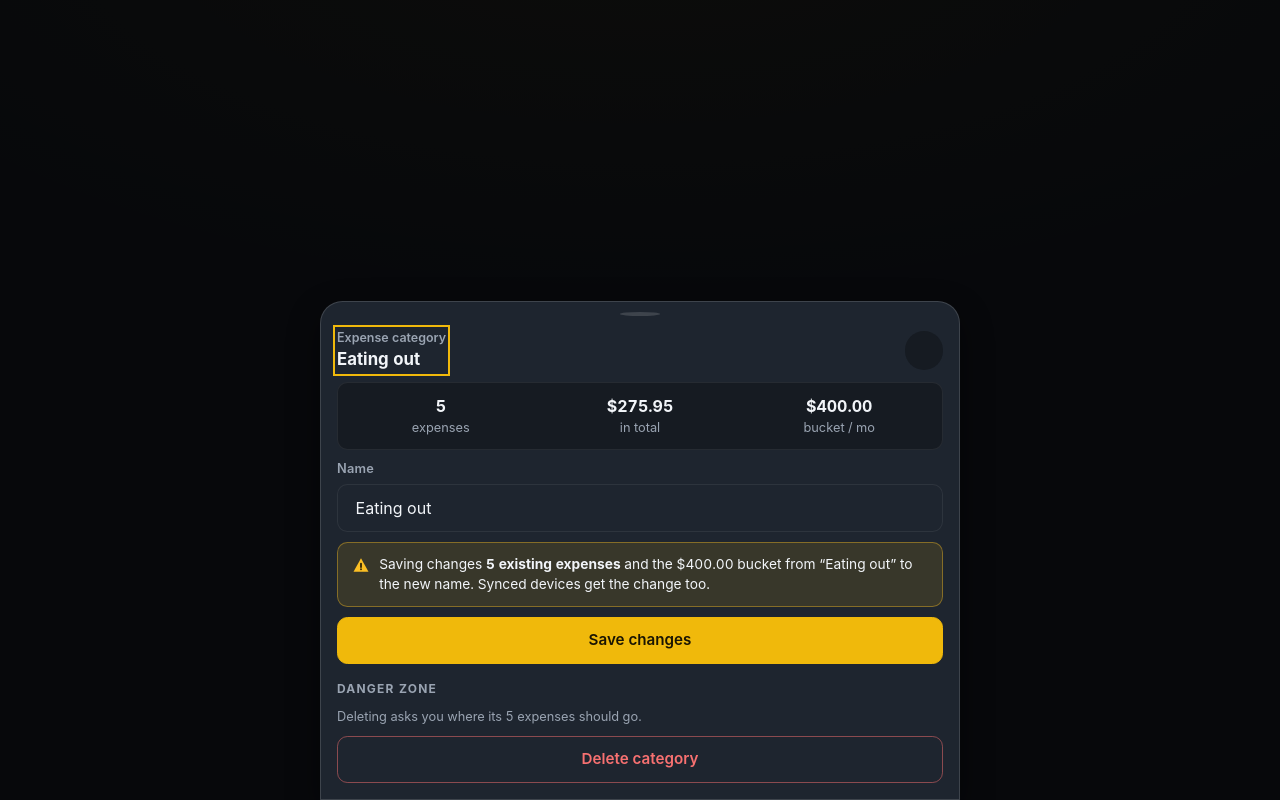
Test: CategorySheet › refuses a name another expense category has
Replace the text in the field labelled "Name" with "Food": (640, 508) [337,484,943,532]
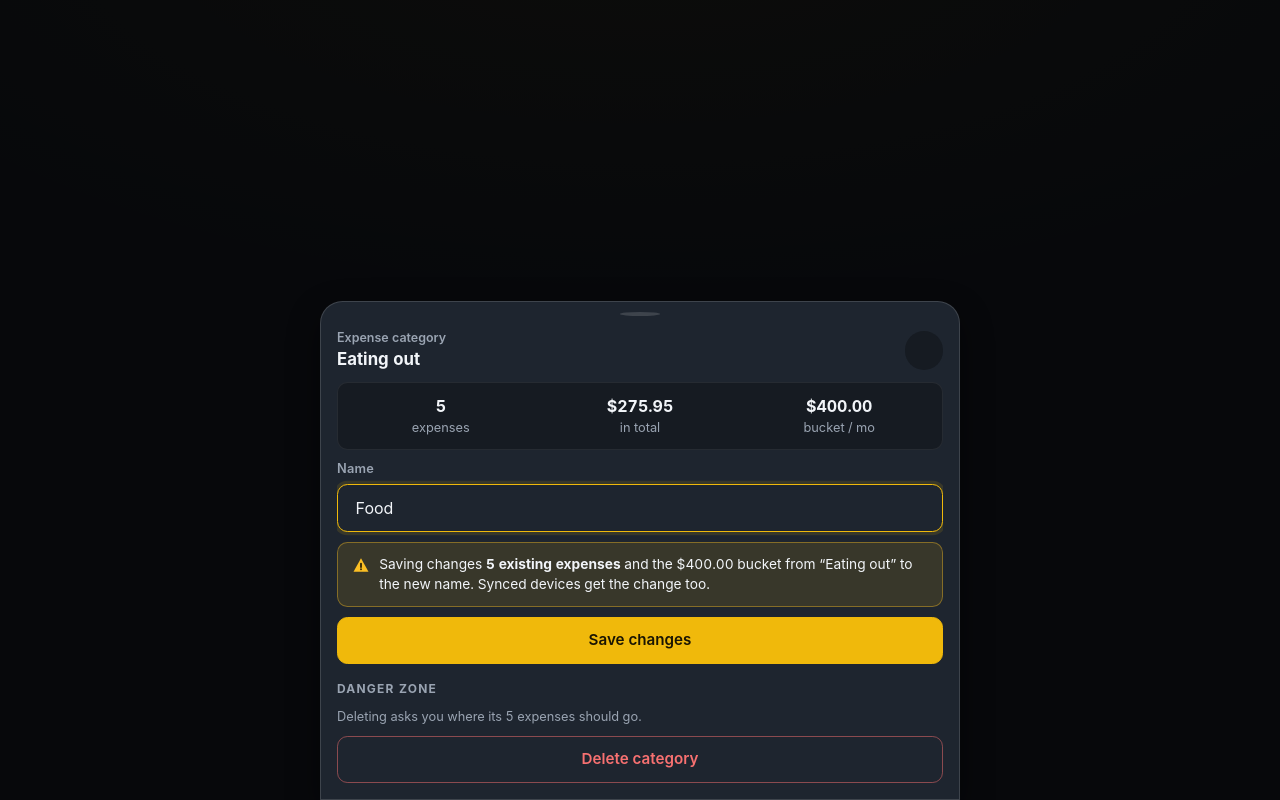
Click the button "Save changes": (640, 641) [337,617,943,664]
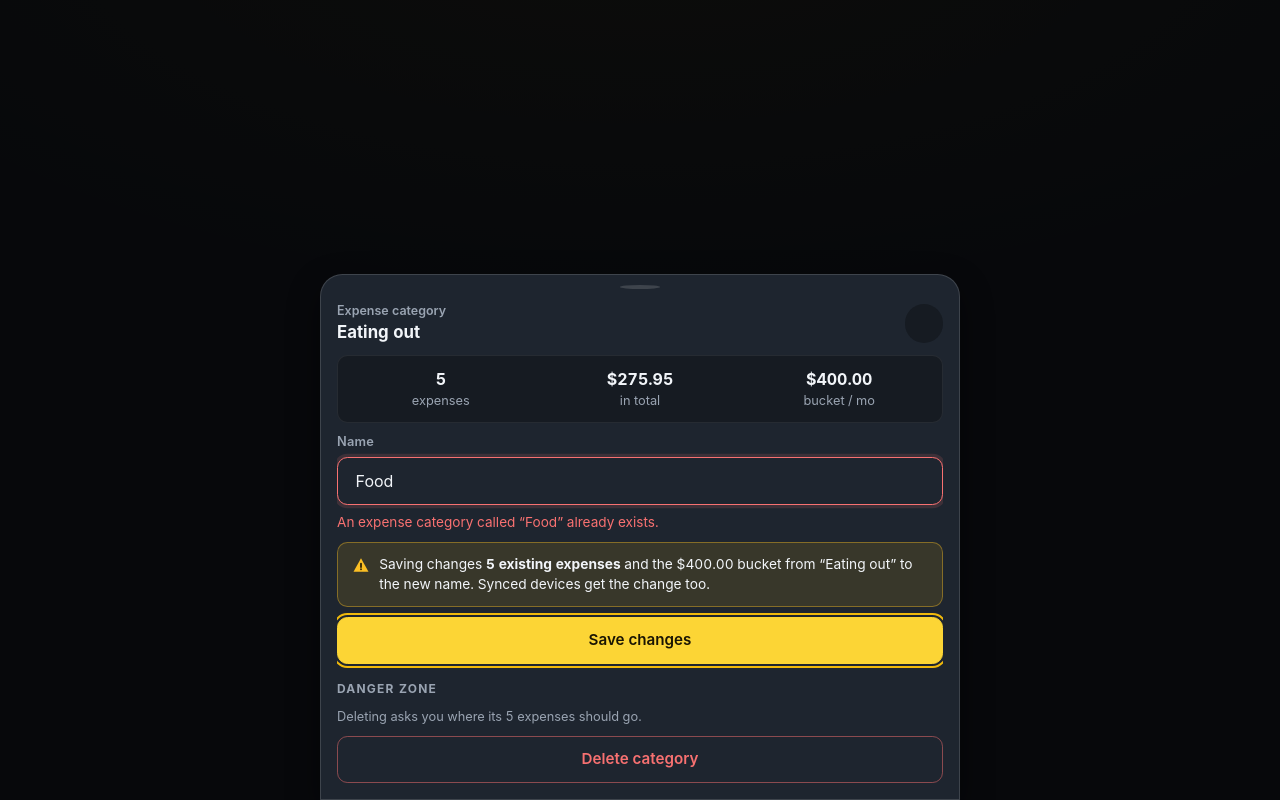
expect the message reads "An expense category called “Food” already exists.": met, box [337,514,659,530]
